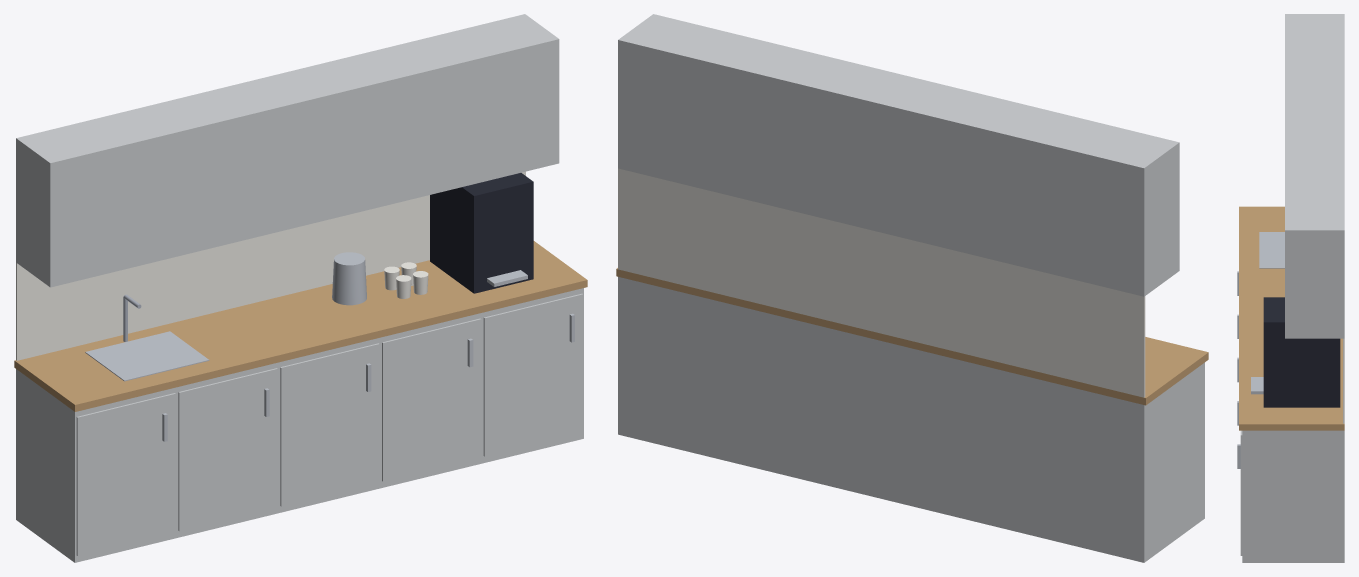
The picture shows the model from 3 angles, left to right: view 1: azimuth 30°, elevation 25°; view 2: azimuth 150°, elevation 25°; view 3: azimuth 270°, elevation 25°; orthographic projection. The views are drawn at different scales.
Parts seen in each view (by area): view 1: white, ceramic_white, oak, plastic_dark, stainless; view 2: white, ceramic_white, oak; view 3: white, oak, plastic_dark, stainless, ceramic_white.
Boxes of the visible parts, <box> form: white: <box>16,14,583,562</box>; ceramic_white: <box>16,171,525,360</box>; oak: <box>14,241,587,411</box>; plastic_dark: <box>430,173,533,293</box>; stainless: <box>85,252,574,441</box>; white: <box>618,14,1204,562</box>; ceramic_white: <box>618,168,1145,397</box>; oak: <box>616,268,1208,405</box>; white: <box>1240,14,1344,562</box>; oak: <box>1239,206,1344,430</box>; plastic_dark: <box>1263,297,1340,407</box>; stainless: <box>1237,232,1284,468</box>; ceramic_white: <box>1343,338,1344,423</box>.
Bounding box in the file's own units: 3.02 × 2.15 × 0.63.
